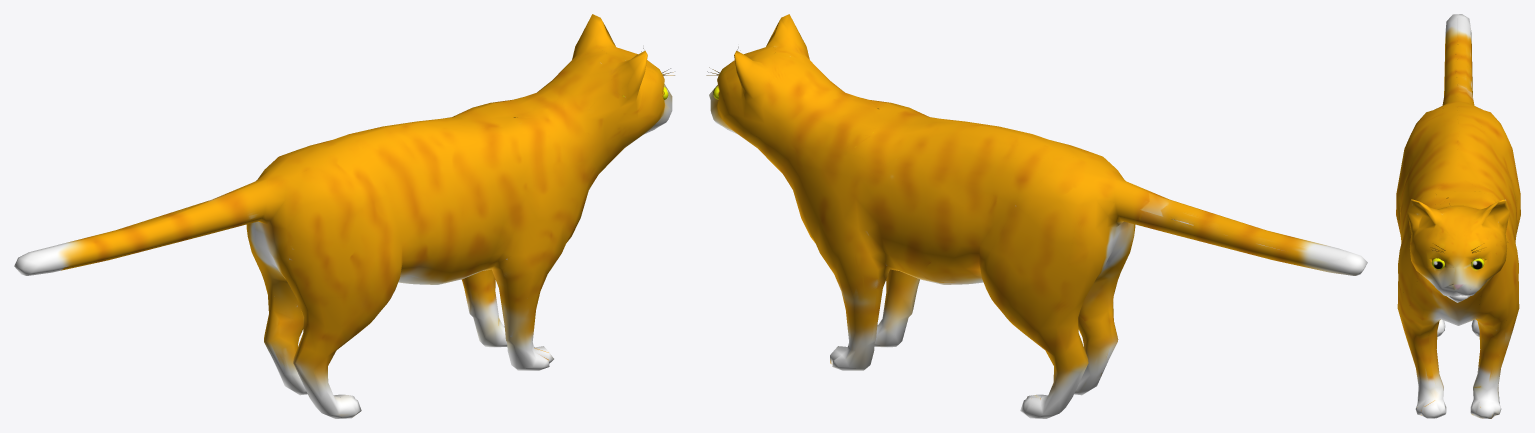
The model's file is orangepolycats.glb.
3 views of the same model, side by side, from view 1: azimuth 30°, elevation 25°; view 2: azimuth 150°, elevation 25°; view 3: azimuth 270°, elevation 25° (orthographic). The views are drawn at different scales.
Visible parts, largest first — view 1: cat; view 2: cat; view 3: cat.
Boxes of the visible parts, x1,y1,x2,y2 form: cat: [14, 14, 674, 418]; cat: [706, 14, 1367, 418]; cat: [1396, 14, 1520, 418].
Bounding box in the file's own units: 23.49 × 10.21 × 4.45.
1 material, 1 textured.
